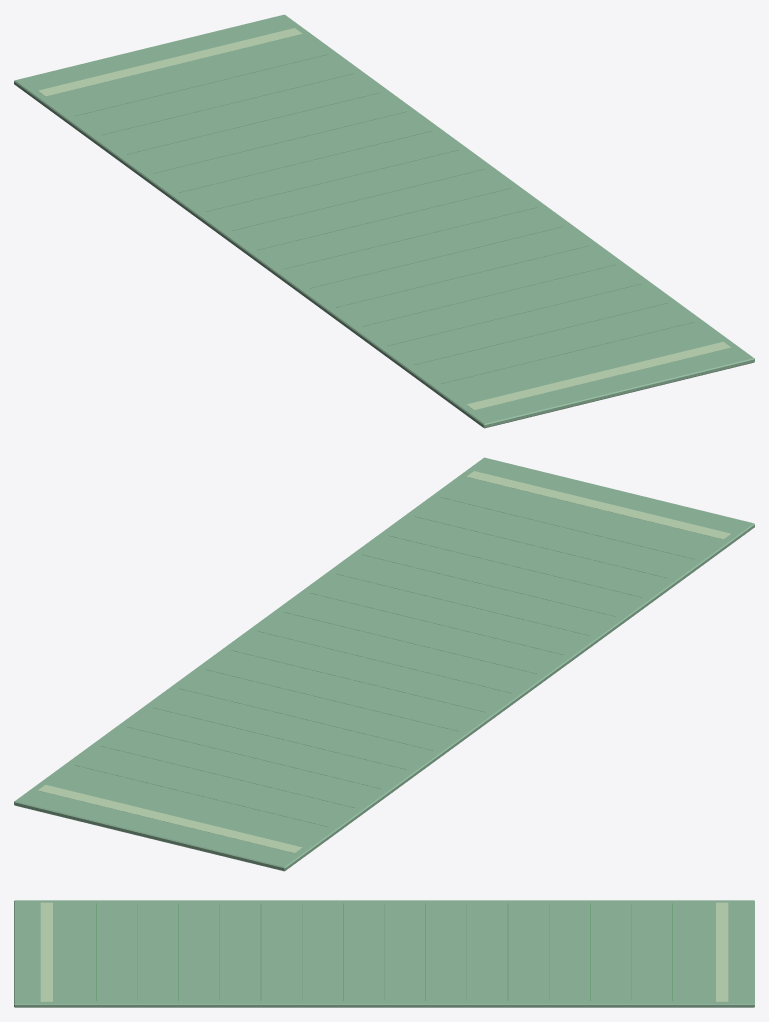
The model's file is tapis_sport.glb.
The picture shows the model from 3 angles, top to bottom: view 1: azimuth 30°, elevation 25°; view 2: azimuth 150°, elevation 25°; view 3: azimuth 270°, elevation 25°; orthographic projection. The views are drawn at different scales.
Visible parts, largest first — view 1: tapis_sport; view 2: tapis_sport; view 3: tapis_sport.
Part boxes in pixels (x1,y1,x2,y2): tapis_sport: (14,14,754,428); tapis_sport: (14,457,754,871); tapis_sport: (14,900,754,1007).
Bounding box in the file's own units: 0.6 × 0.01 × 1.8.
